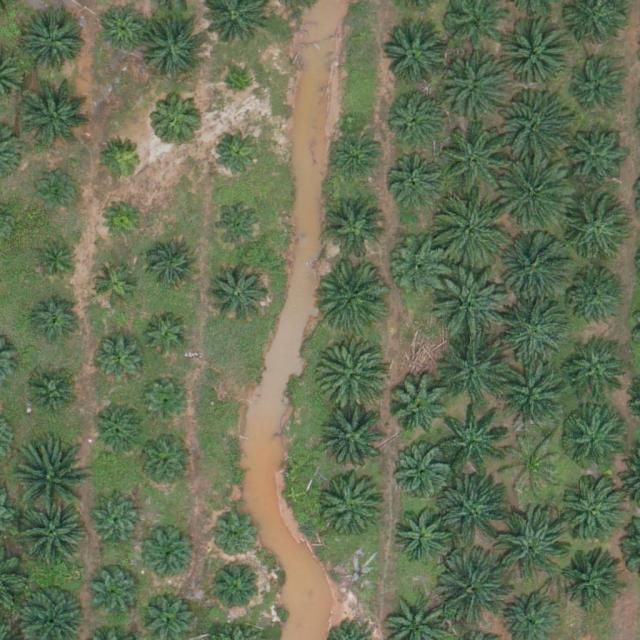Dead: (504, 431, 566, 494)
Healthy: (439, 554, 510, 625), (17, 445, 88, 516), (501, 16, 572, 87), (561, 476, 631, 547), (499, 295, 569, 366), (500, 366, 570, 437), (438, 404, 508, 475), (441, 332, 511, 403), (434, 271, 504, 342), (321, 406, 391, 477), (316, 338, 387, 408), (319, 261, 389, 332), (22, 80, 92, 151), (504, 231, 574, 302), (502, 159, 572, 230), (437, 54, 508, 124), (142, 12, 212, 83), (497, 510, 567, 580), (440, 475, 510, 545), (16, 504, 86, 574), (563, 200, 633, 270), (502, 90, 572, 160), (442, 125, 512, 195), (439, 197, 509, 267), (564, 344, 627, 407), (389, 442, 452, 505), (322, 474, 385, 537), (389, 235, 452, 298), (560, 407, 622, 470), (387, 375, 450, 437), (392, 502, 454, 565), (207, 264, 269, 327), (24, 9, 86, 72), (564, 130, 626, 193), (387, 147, 449, 210), (385, 84, 447, 147), (385, 26, 447, 89), (324, 196, 386, 259), (562, 550, 624, 612), (93, 330, 148, 386), (566, 271, 621, 326), (29, 296, 84, 351), (21, 368, 76, 423), (136, 435, 191, 490), (87, 495, 142, 550), (88, 566, 143, 621), (97, 4, 152, 59), (213, 198, 268, 253), (568, 58, 623, 113), (150, 89, 205, 144), (146, 239, 201, 294), (92, 403, 146, 458), (143, 531, 197, 586), (210, 559, 264, 614), (211, 124, 265, 179), (328, 126, 382, 181)
Small: (34, 168, 81, 216), (144, 380, 191, 428), (212, 513, 259, 561), (33, 238, 80, 286), (100, 137, 147, 184), (91, 262, 138, 309), (146, 315, 193, 362), (100, 197, 147, 244), (223, 71, 254, 102)
